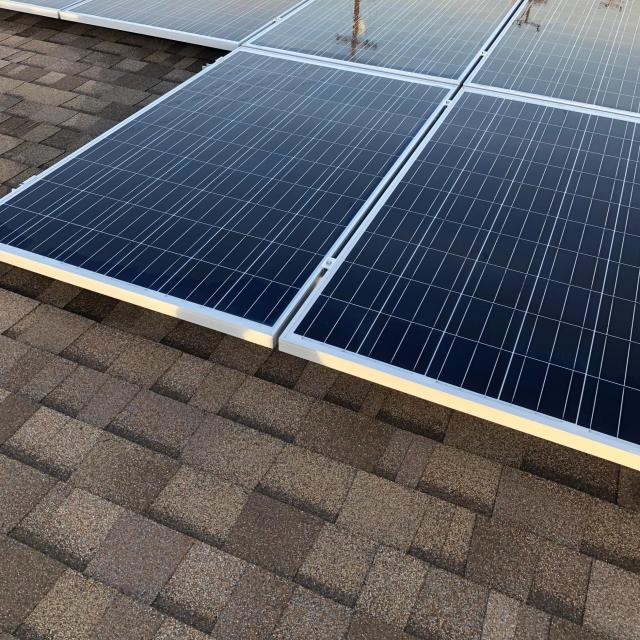no faulty: (0, 53, 462, 335), (296, 84, 640, 455)
